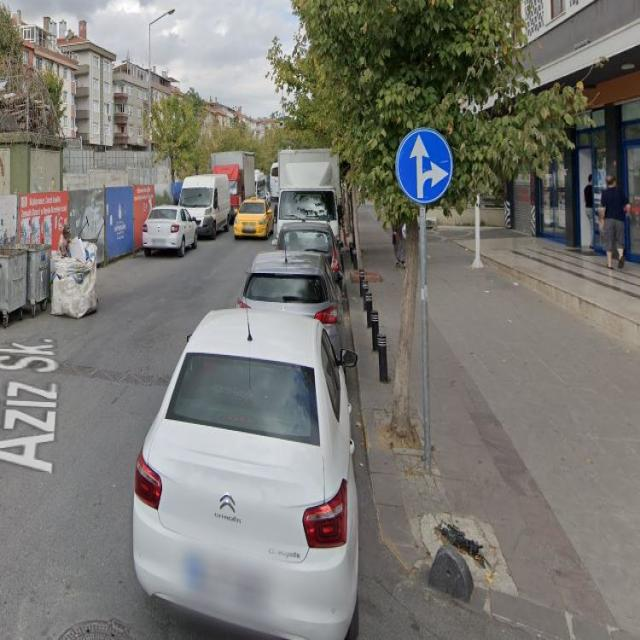ilerisag: (395, 128, 454, 204)
